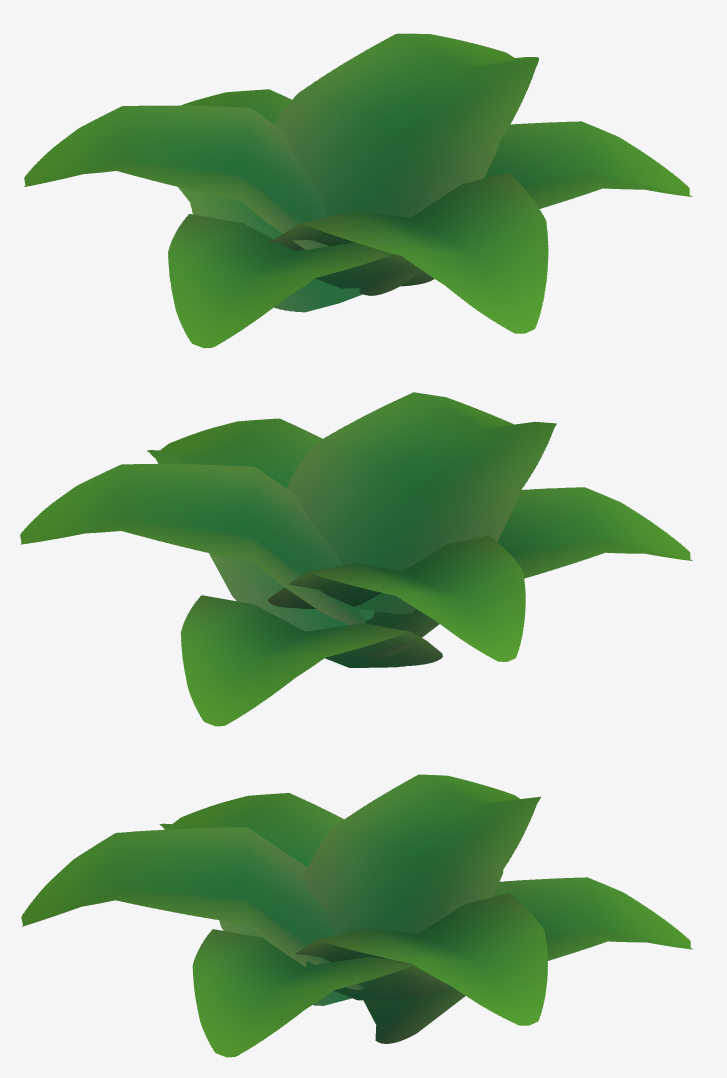
The model's file is Plante_1a.fbx.
3 renders of one model, top to bottom at view 1: azimuth 30°, elevation 25°; view 2: azimuth 150°, elevation 25°; view 3: azimuth 270°, elevation 25°, orthographic. The views are drawn at different scales.
Parts seen in each view (by area): view 1: Plante_1a; view 2: Plante_1a; view 3: Plante_1a.
Part boxes in pixels (x1,y1,x2,y2): Plante_1a: (24, 33, 692, 348); Plante_1a: (20, 392, 692, 726); Plante_1a: (21, 774, 692, 1057).
Bounding box in the file's own units: 29.5 × 7.6 × 29.75.
